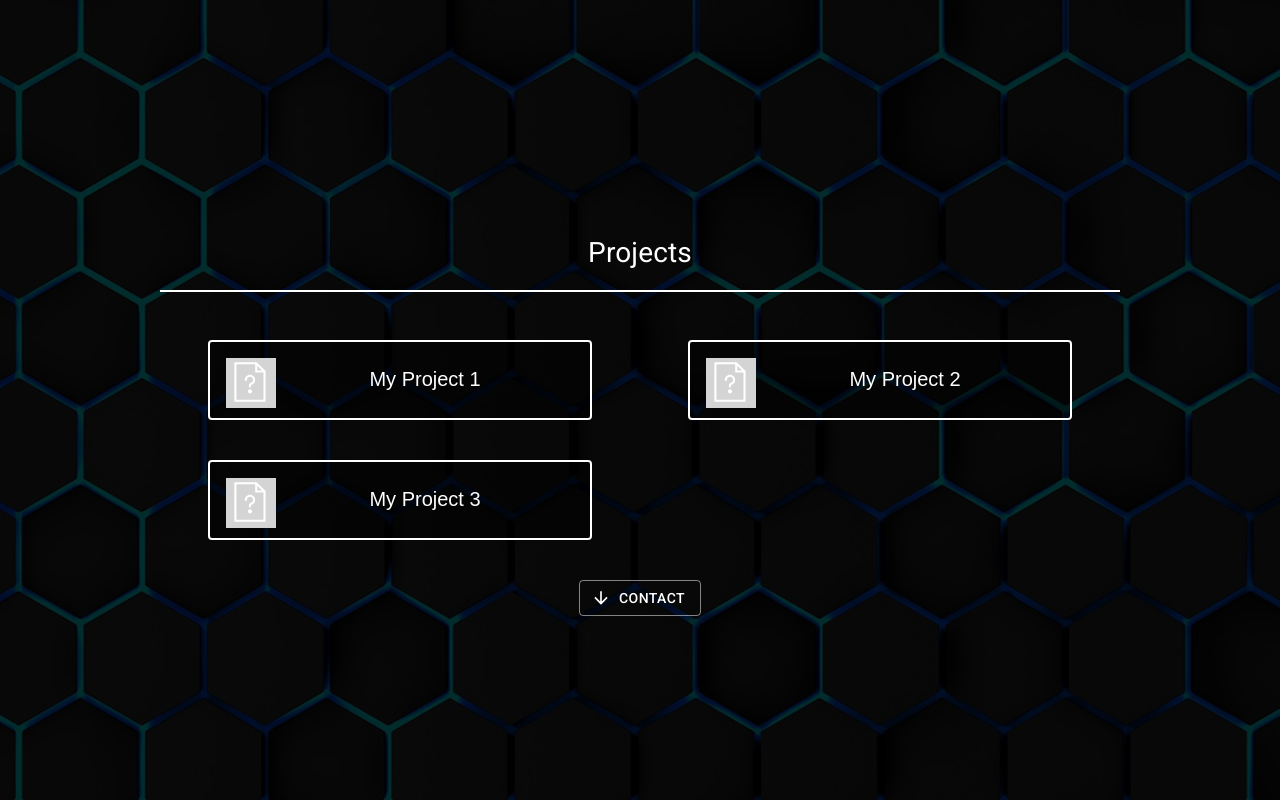
Test the projects section › open the first project modal, click on the code and try it buttons, then close the modal
(page scrolled)
Click the button with test id "project1-button" at (400, 380), box [208,340,592,420]
(page scrolled)
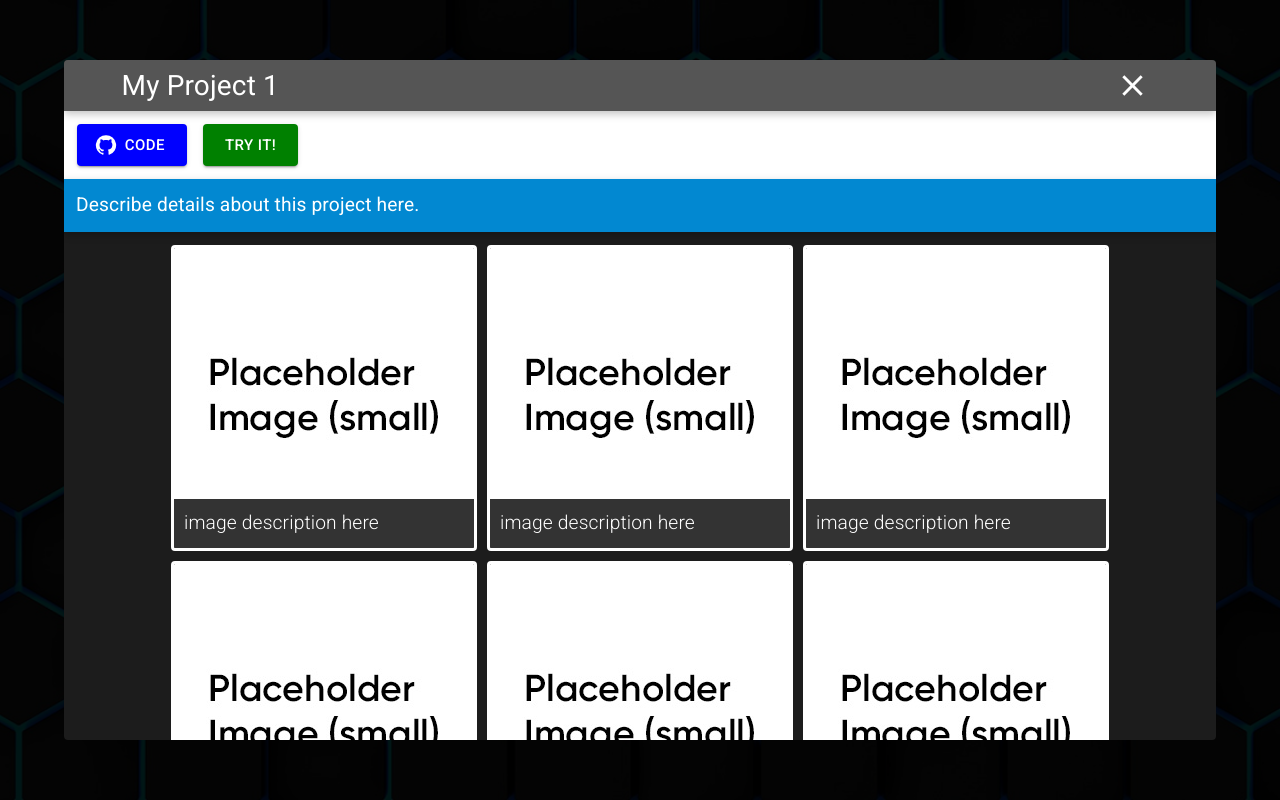
Expected: the element with test id "projects-modal-content-box" is shown
Click the button with test id "project-code-button" at (132, 145), box [77,124,187,166]
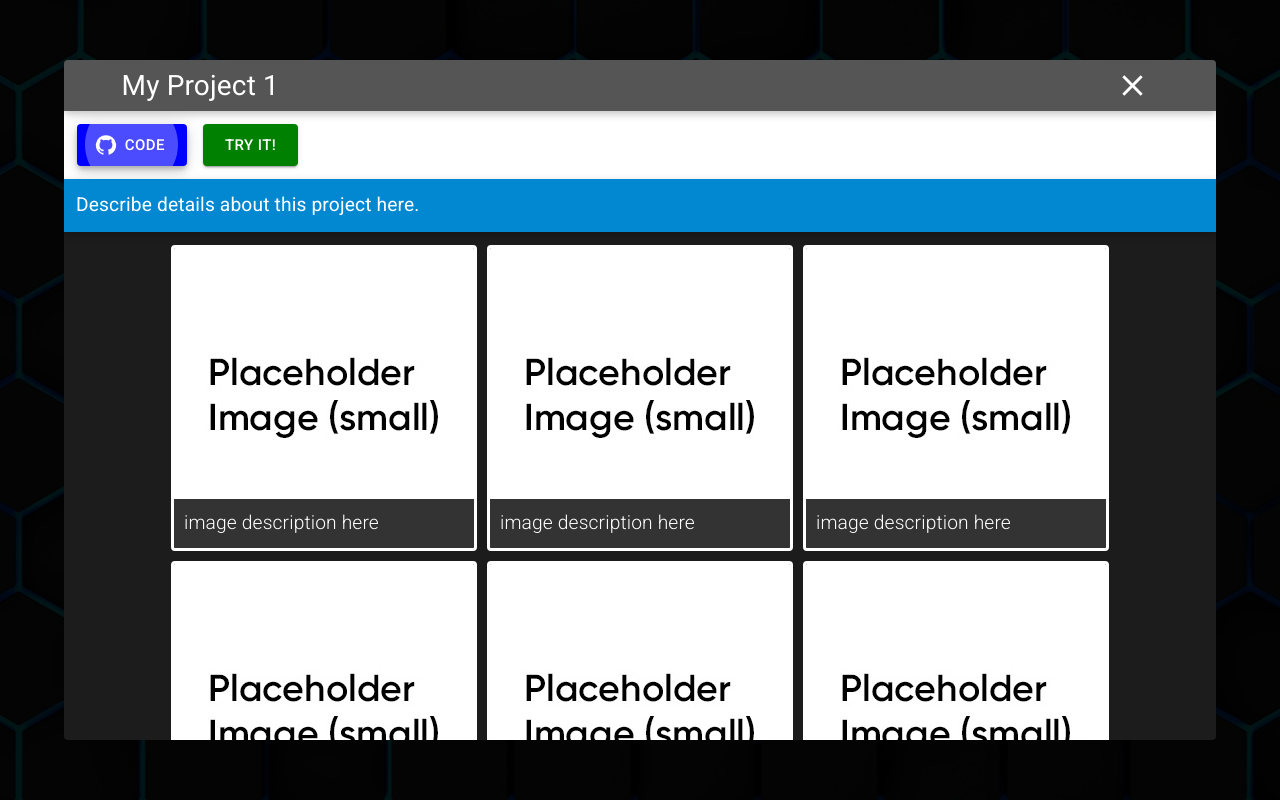
Click the button with test id "project-tryit-button" at (251, 145), box [203,124,298,166]
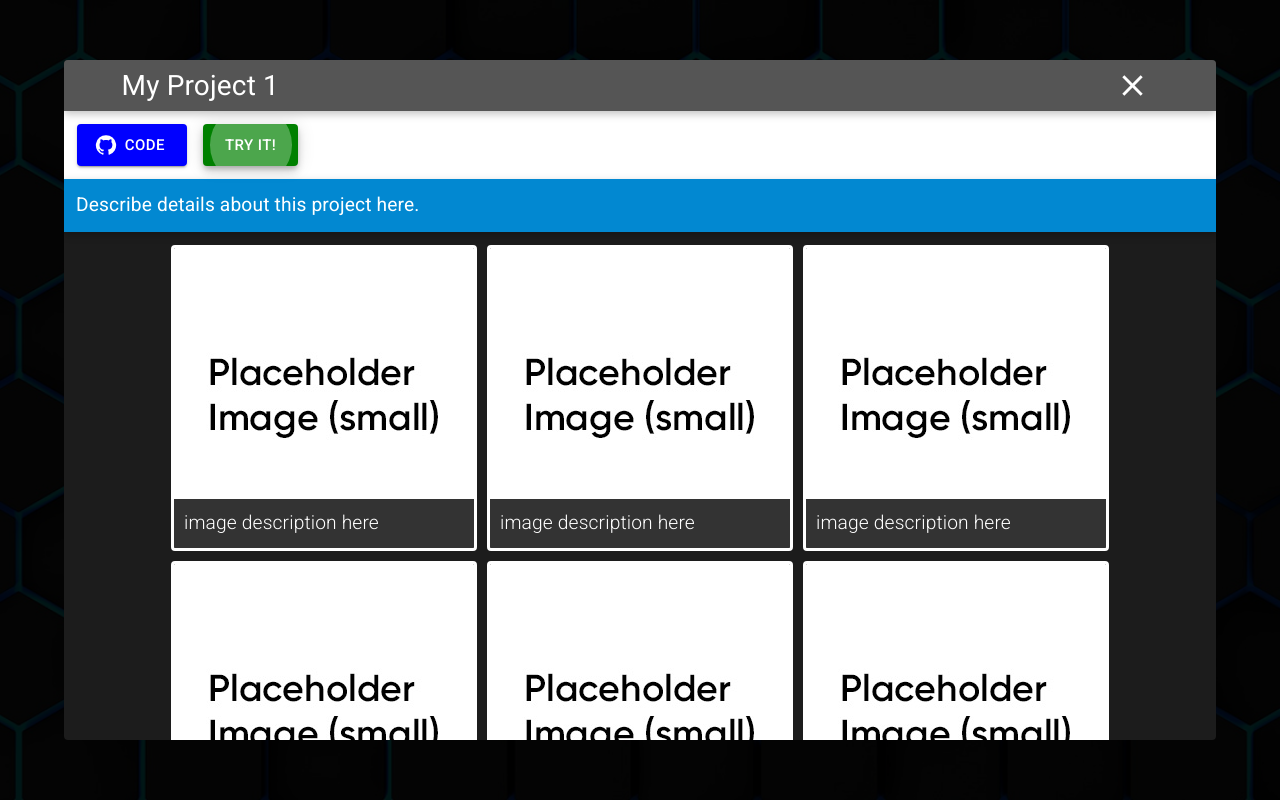
Click the button with test id "modal-close-button" at (1133, 86), box [1107,60,1158,111]
(page scrolled)
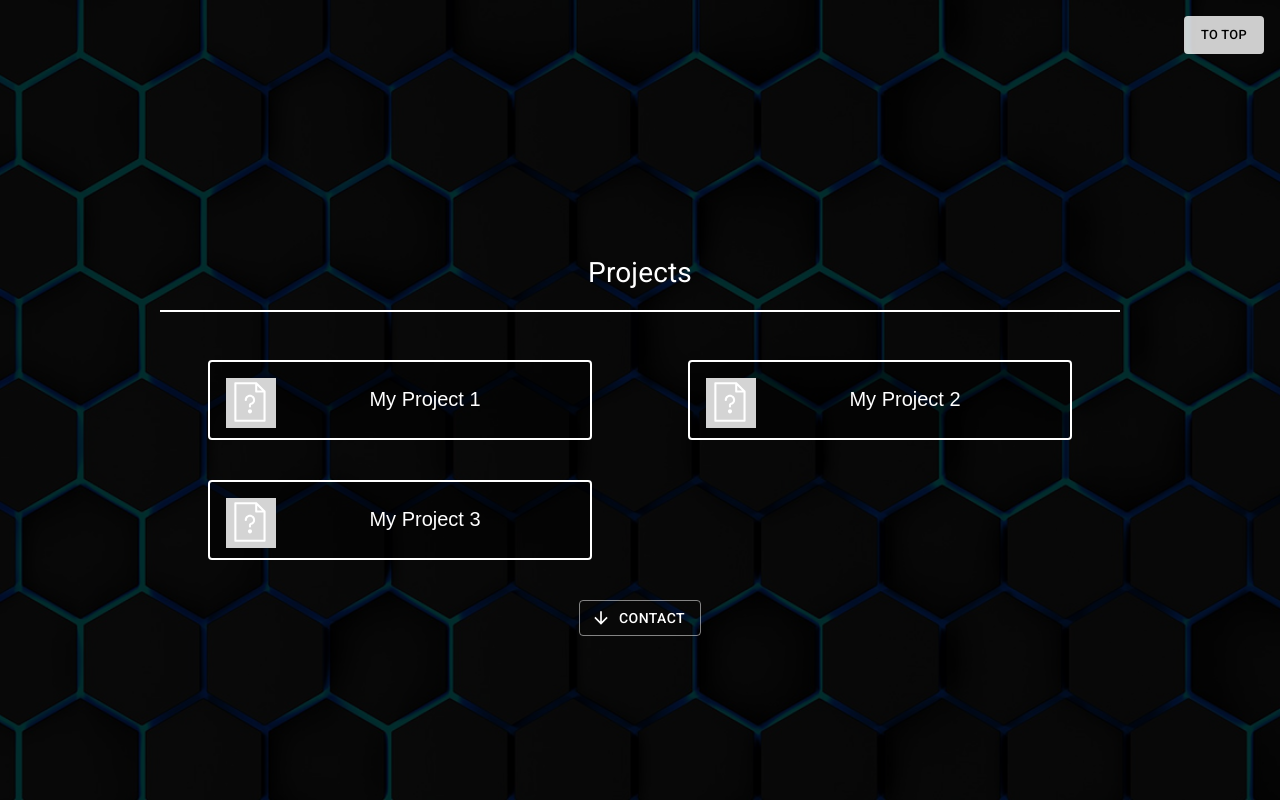
Expected: the element with test id "projects-modal-content-box" is gone
